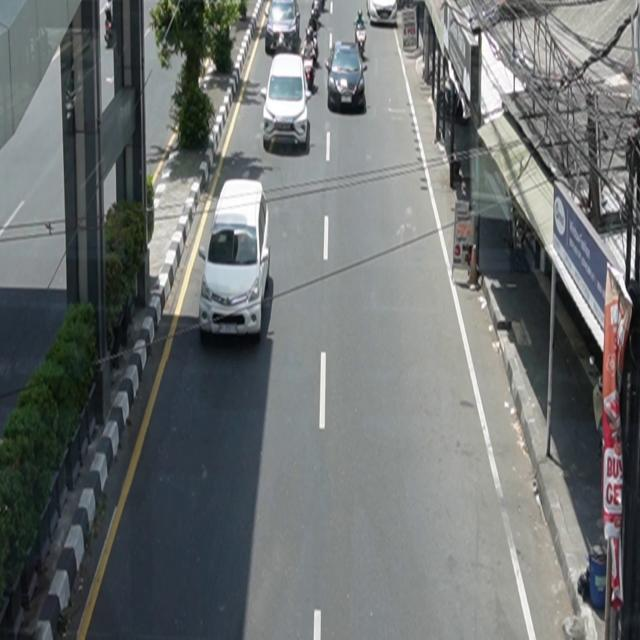car: (199, 179, 271, 339), (262, 53, 313, 151), (326, 41, 368, 111), (266, 1, 301, 55), (367, 1, 398, 26)
